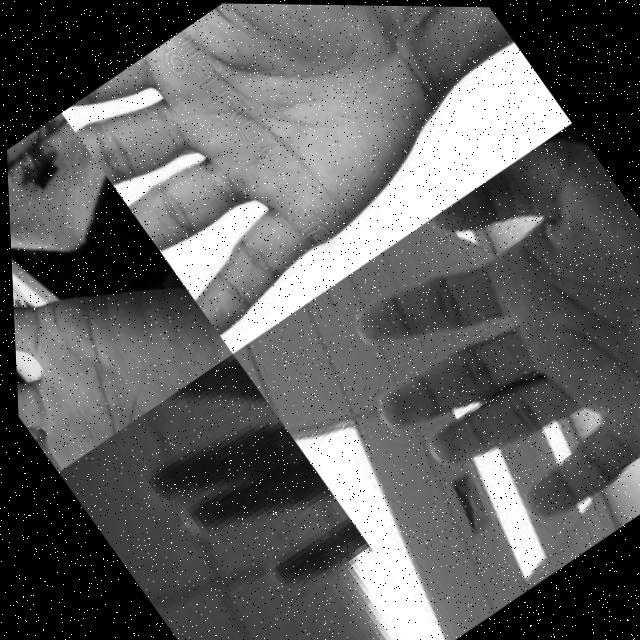no-gloves: (293, 118, 640, 574), (55, 1, 492, 340), (98, 352, 396, 640), (4, 126, 232, 475)
